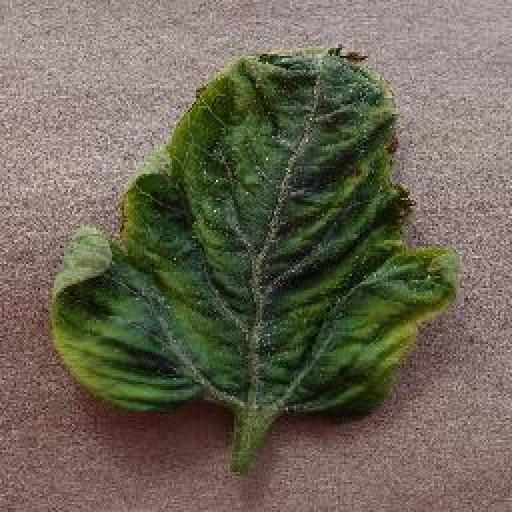disease_tomato: (48, 43, 459, 420)
